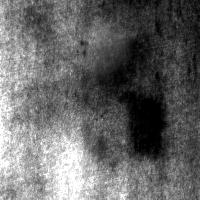patches: (22, 67, 132, 177), (35, 137, 105, 200), (70, 14, 136, 80), (118, 92, 165, 158), (93, 36, 137, 83)
